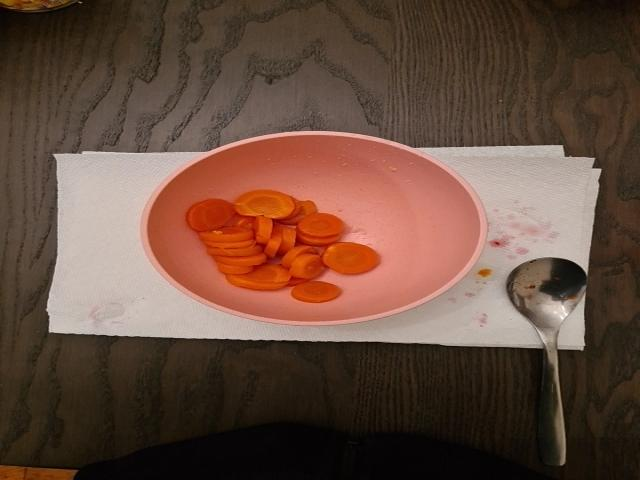kichen waste: (186, 190, 380, 304)
